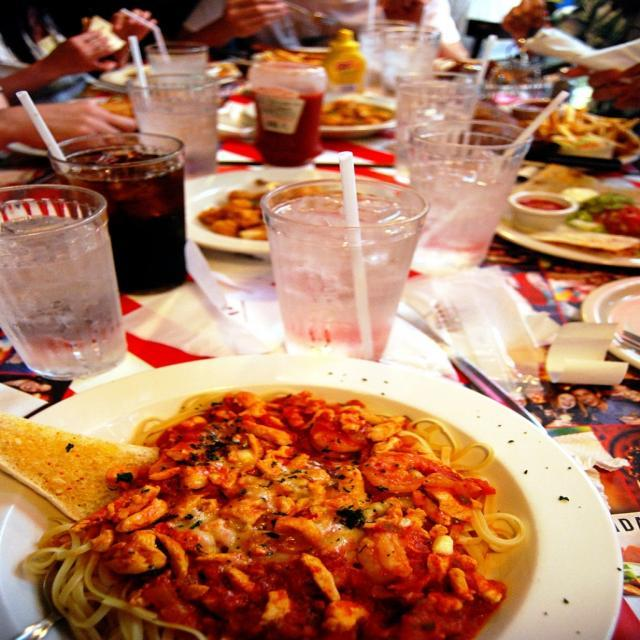Juice: (253, 177, 433, 357), (0, 217, 127, 377), (55, 148, 187, 292), (414, 168, 522, 244), (133, 97, 220, 181), (394, 114, 468, 170), (148, 53, 208, 75)
